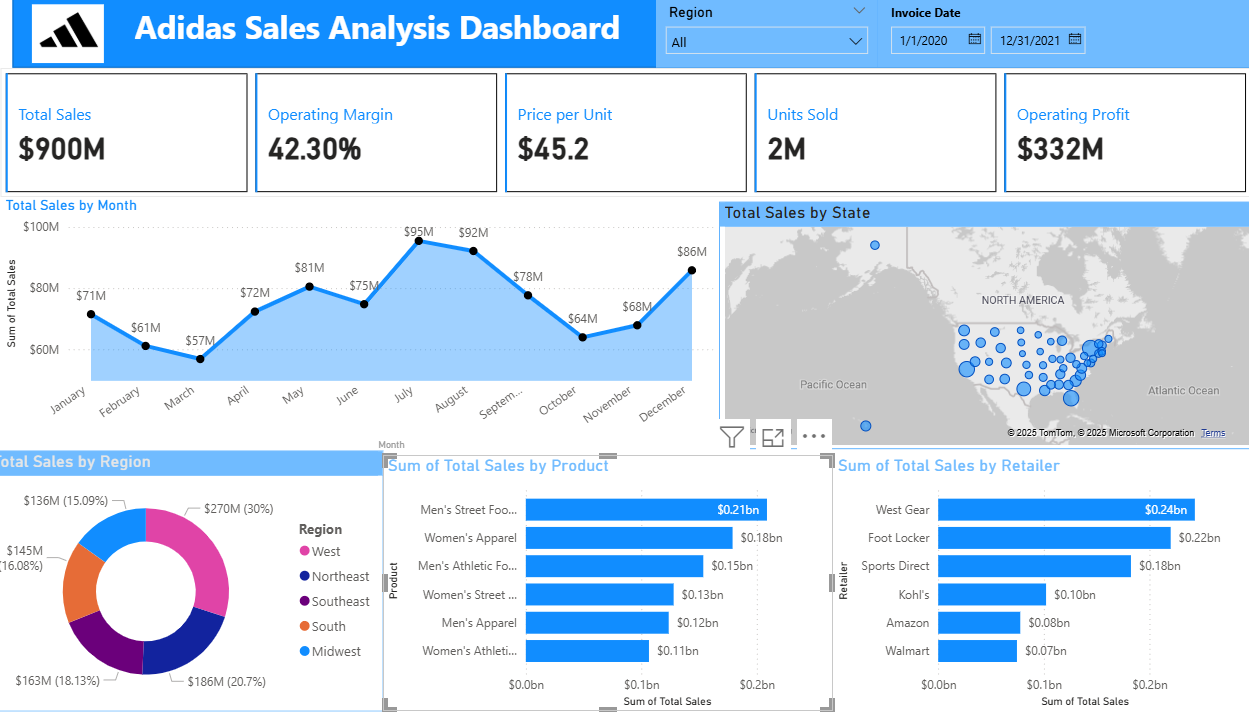

The dashboard page shown, as its layout file describes it:
{"tool":"powerbi","page":{"name":"Page 1","canvas":[1280,720],"ordinal":0},"visuals":[{"type":"shape","box":[25.7,0,1253.8,69.7],"z":0},{"type":"textbox","box":[143.8,0,531.5,69.7],"z":1000},{"type":"cardVisual","fields":{"Data":["Sum(Data Sales Adidas.Total Sales)","Avg(Data Sales Adidas.Operating Margin)","Avg(Data Sales Adidas.Price per Unit)","Sum(Data Sales Adidas.Units Sold)","Sum(Data Sales Adidas.Operating Profit)"]},"box":[25.7,69.7,1253.8,130.2],"z":2000},{"type":"areaChart","title":" Total Sales by Month","fields":{"Category":["Data Sales Adidas.Invoice Date.Variation.Date Hierarchy.Month"],"Y":["Sum(Data Sales Adidas.Total Sales)"]},"box":[13.6,199.9,725,260],"z":3000},{"type":"map","title":"Total Sales by State","fields":{"Category":["Data Sales Adidas.State"],"Size":["Sum(Data Sales Adidas.Total Sales)"]},"box":[738.9,204.4,540.6,249.8],"z":4000},{"type":"donutChart","title":"Total Sales by Region","fields":{"Category":["Data Sales Adidas.Region"],"Y":["Sum(Data Sales Adidas.Total Sales)"]},"box":[0,455.8,400,263.5],"z":5000},{"type":"slicer","title":" Total Sales by Product and Region","fields":{"Values":["Data Sales Adidas.Region"]},"box":[675.3,0,224.1,69.7],"z":6000},{"type":"barChart","fields":{"Category":["Data Sales Adidas.Retailer"],"Y":["Sum(Data Sales Adidas.Total Sales)"],"Series":["Data Sales Adidas.Invoice Date.Variation.Date Hierarchy.Year"]},"box":[854,460,426,259],"z":7000},{"type":"barChart","fields":{"Category":["Data Sales Adidas.Product"],"Y":["Sum(Data Sales Adidas.Total Sales)"]},"box":[399.8,460.3,454.3,258.9],"z":7001},{"type":"slicer","title":" Total Sales by Product and Region","fields":{"Values":["Data Sales Adidas.Invoice Date"]},"box":[899.4,0,380.1,69.7],"z":7002},{"type":"image","box":[0,0,163.5,69.7],"z":7003}]}

Visuals, with their boxes in screenshot pixels (x1, y1, x2, y2), scaled from the page's 1280x720 canvas onto the 1249x712 screenshot:
shape: (25, 0, 1248, 69)
textbox: (140, 0, 659, 69)
cardVisual - Sum(Data Sales Adidas.Total Sales) x Avg(Data Sales Adidas.Operating Margin): (25, 69, 1248, 198)
" Total Sales by Month" areaChart: (13, 198, 721, 455)
"Total Sales by State" map: (721, 202, 1248, 449)
"Total Sales by Region" donutChart: (0, 451, 390, 711)
" Total Sales by Product and Region" slicer: (659, 0, 878, 69)
barChart - Data Sales Adidas.Retailer x Sum(Data Sales Adidas.Total Sales): (833, 455, 1248, 711)
barChart - Data Sales Adidas.Product x Sum(Data Sales Adidas.Total Sales): (390, 455, 833, 711)
" Total Sales by Product and Region" slicer: (878, 0, 1248, 69)
image: (0, 0, 160, 69)
